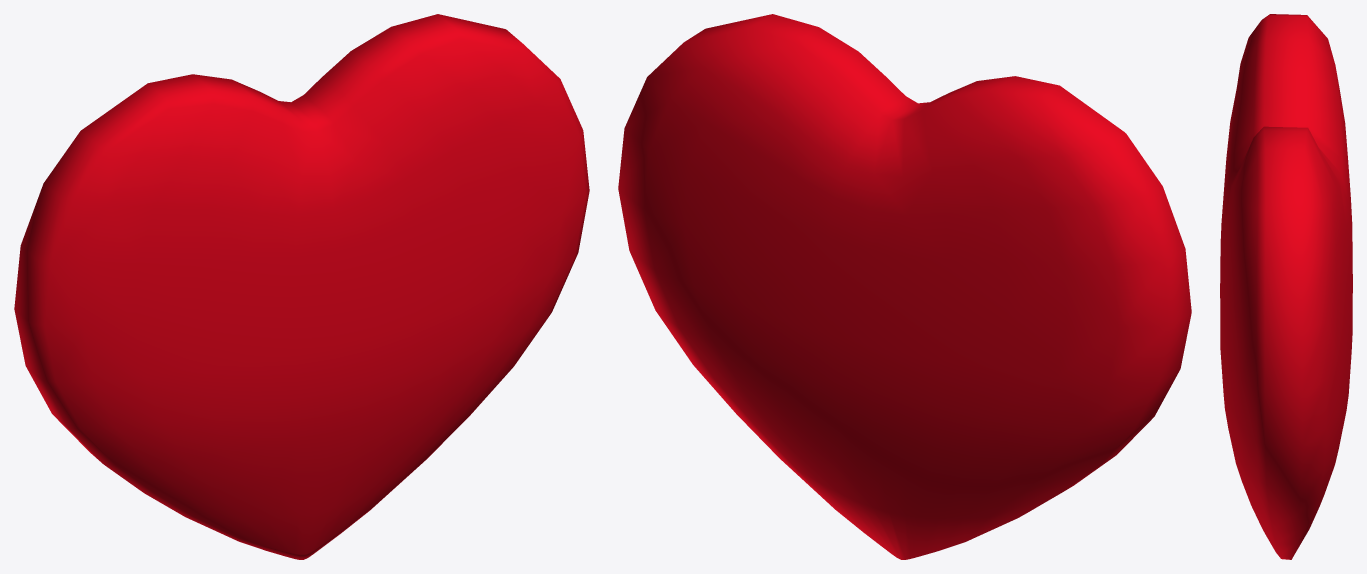
The model's file is heart.fbx.
3 renders of one model, left to right at view 1: azimuth 30°, elevation 25°; view 2: azimuth 150°, elevation 25°; view 3: azimuth 270°, elevation 25°, orthographic. The views are drawn at different scales.
Parts seen in each view (by area): view 1: heart.024; view 2: heart.024; view 3: heart.024.
Part boxes in pixels (x1=…): heart.024: x1=14, y1=14, x2=589, y2=559; heart.024: x1=618, y1=14, x2=1191, y2=559; heart.024: x1=1220, y1=14, x2=1352, y2=559.
Size of the model in its own units: 86.12 by 74.05 by 18.74.
